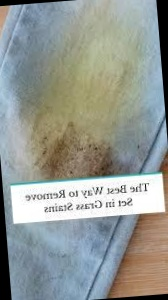earth: (19, 29, 150, 179)
